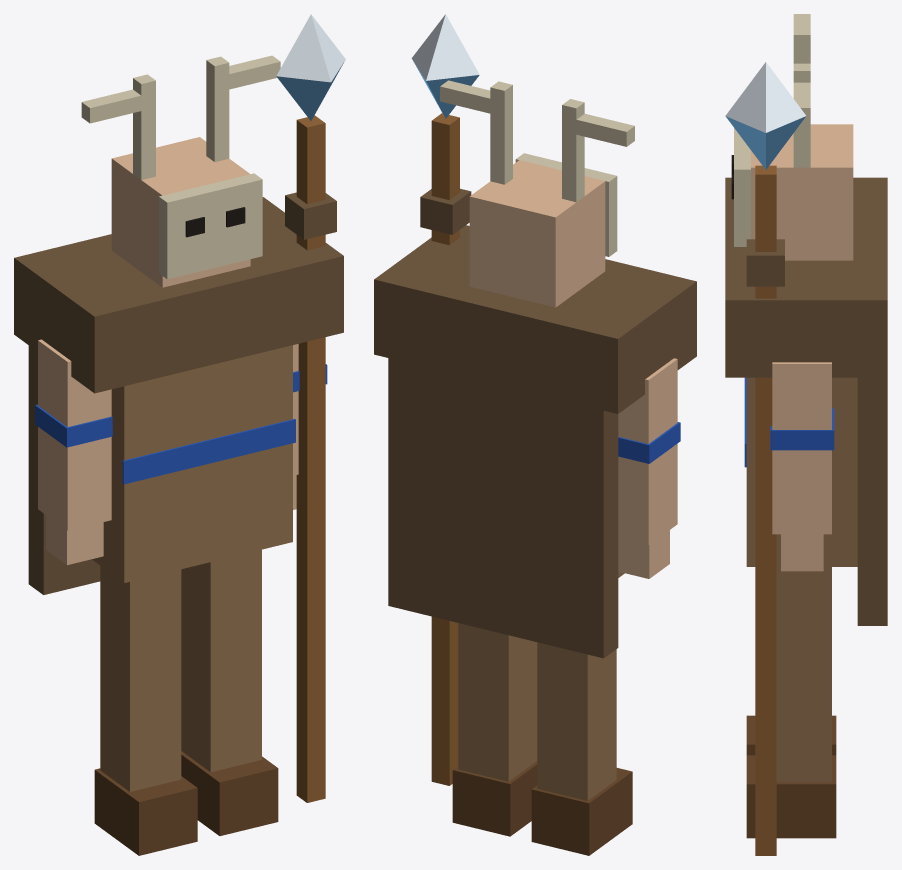
The model's file is shaman_placeholder.glb.
The picture shows the model from 3 angles, left to right: view 1: azimuth 30°, elevation 25°; view 2: azimuth 150°, elevation 25°; view 3: azimuth 270°, elevation 25°; orthographic projection. The views are drawn at different scales.
Visible parts, largest first — view 1: shaman_placeholder; view 2: shaman_placeholder; view 3: shaman_placeholder.
Boxes of the visible parts, x1=… form: shaman_placeholder: x1=14, y1=14, x2=345, y2=855; shaman_placeholder: x1=374, y1=14, x2=696, y2=855; shaman_placeholder: x1=725, y1=14, x2=887, y2=855.
Size of the model in its own units: 0.755 by 2.06 by 0.38.
1 material, 1 textured.
